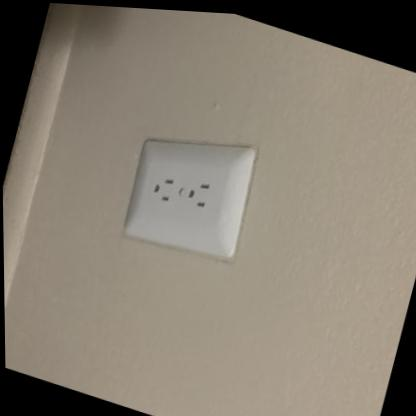OUTLET: (117, 113, 260, 269)
